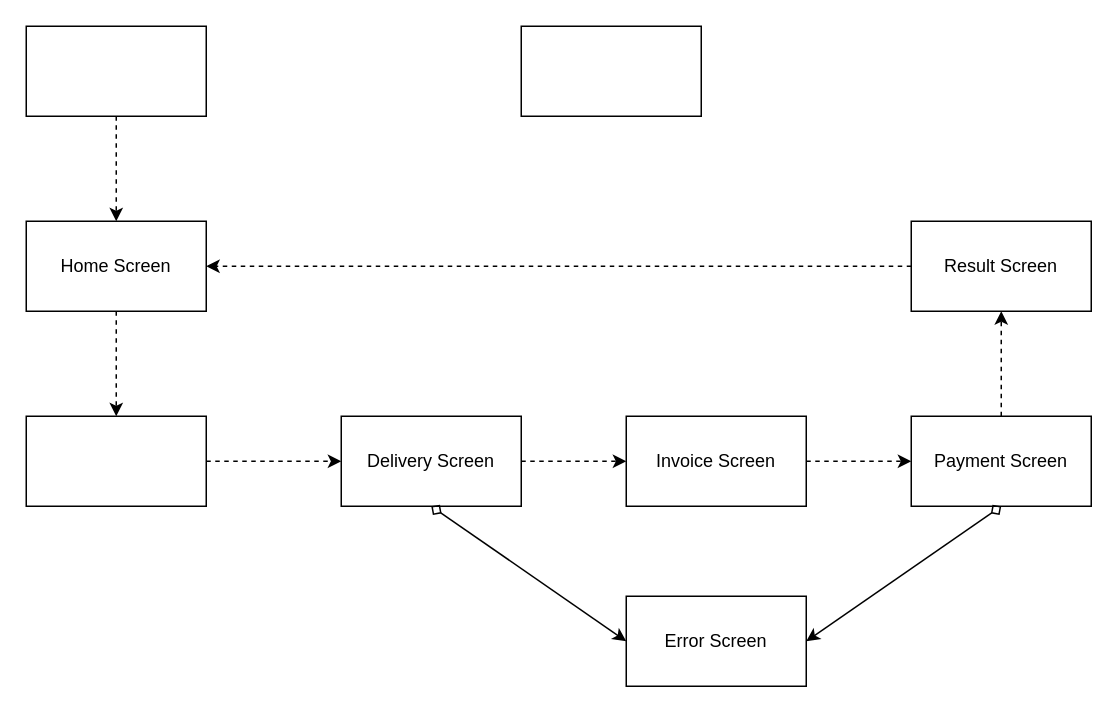
The diagram is 1118 pixels wide and 713 high, and some of its shapes have lost their labels. The centre of each missing label's shape, as x and y in pixels:
"CartScreen" belongs at point 115,460.
"DuongNV 20173069" belongs at point 610,70.
"Splash Screen" belongs at point 115,70.
